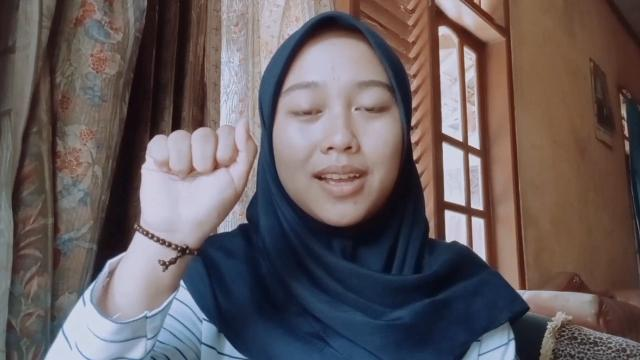A: (137, 114, 261, 238)
